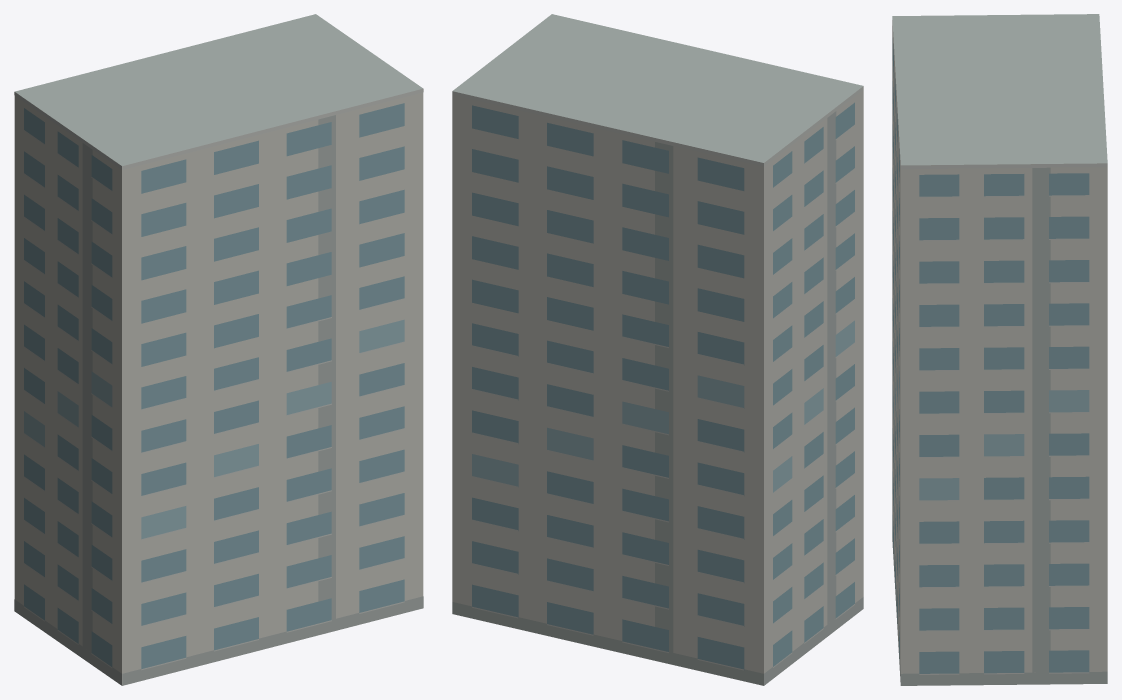
File: residential-6b372ce2-d945-41c2-98a7-ad8d2719aeb4.glb
3 renders of one model, left to right at view 1: azimuth 30°, elevation 25°; view 2: azimuth 150°, elevation 25°; view 3: azimuth 270°, elevation 25°, orthographic.
Visible parts, largest first — view 1: residential-6b372ce2-d945-41c2-98a7-ad8d2719aeb4.tmp; view 2: residential-6b372ce2-d945-41c2-98a7-ad8d2719aeb4.tmp; view 3: residential-6b372ce2-d945-41c2-98a7-ad8d2719aeb4.tmp.
Boxes of the visible parts, box(x1,y1,x2,y2) form: residential-6b372ce2-d945-41c2-98a7-ad8d2719aeb4.tmp: box(14, 14, 423, 685); residential-6b372ce2-d945-41c2-98a7-ad8d2719aeb4.tmp: box(452, 14, 863, 685); residential-6b372ce2-d945-41c2-98a7-ad8d2719aeb4.tmp: box(892, 14, 1107, 685).
Bounding box in the file's own units: 20.6 × 33 × 12.39.
